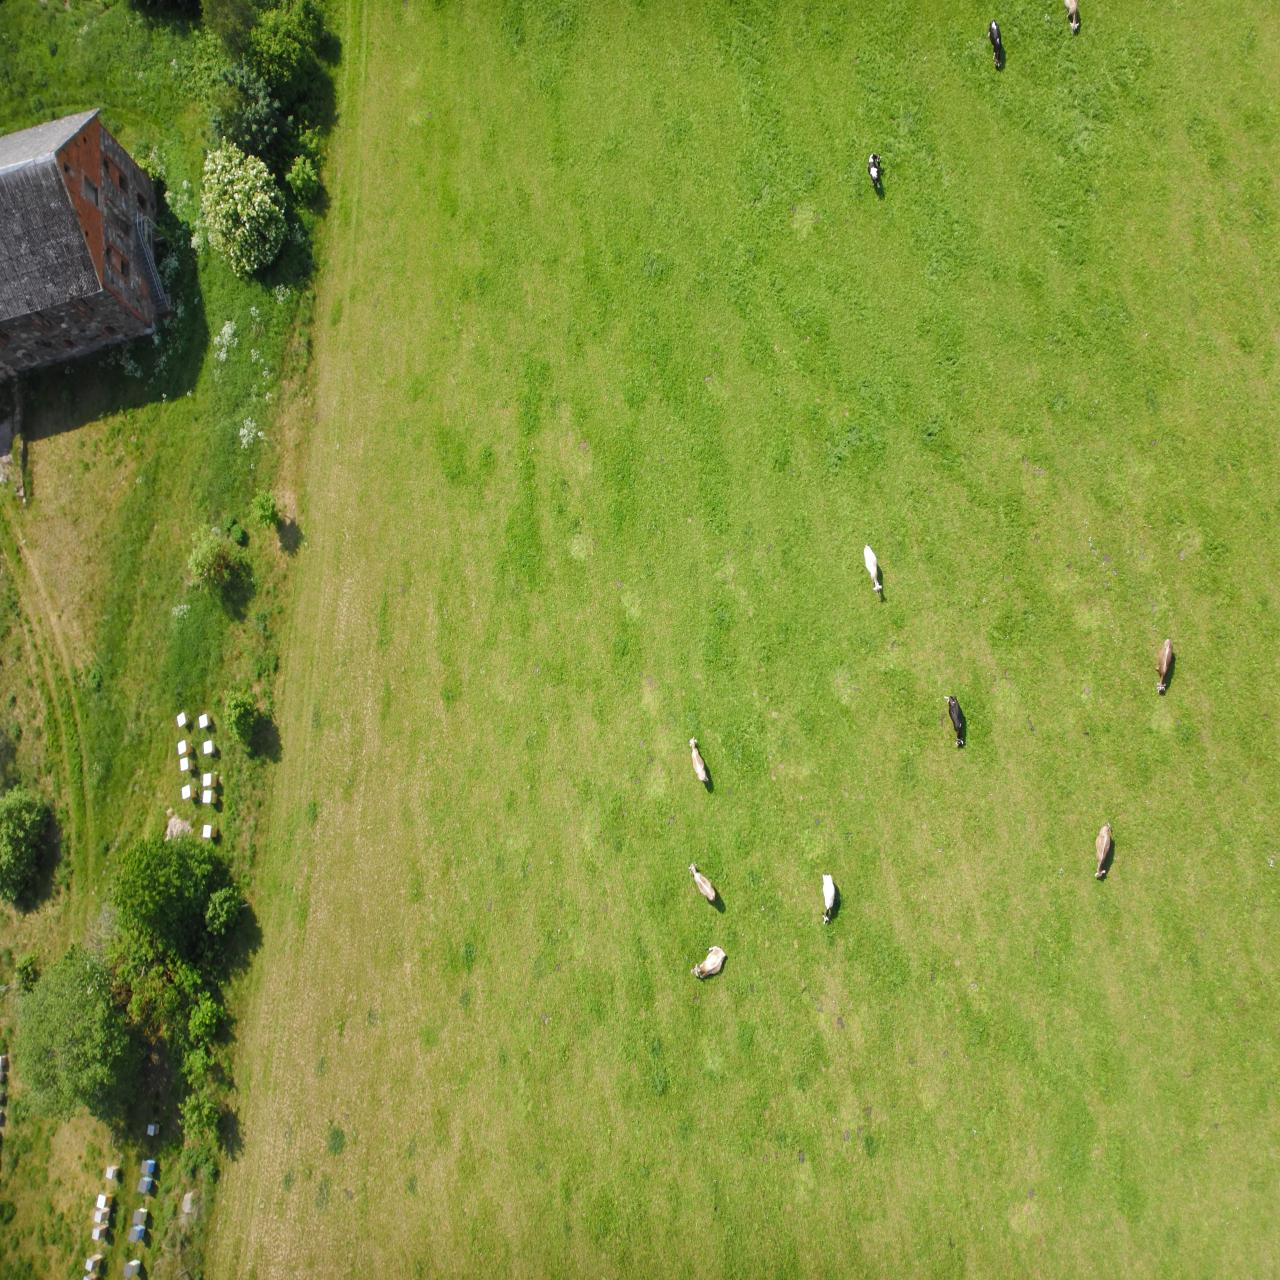cow: (685, 938, 729, 988), (942, 688, 971, 756), (858, 544, 891, 600), (1090, 818, 1117, 885), (687, 857, 719, 910), (687, 729, 713, 791), (1153, 634, 1177, 697), (985, 19, 1008, 76), (817, 871, 839, 928), (869, 147, 887, 206), (1062, 0, 1085, 42)
